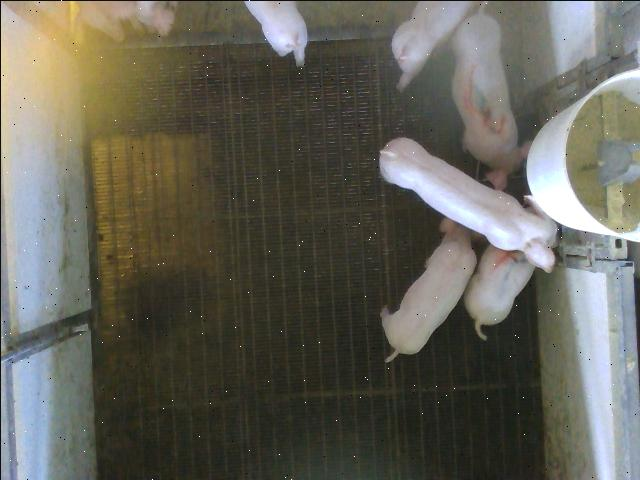pig-3: (451, 4, 529, 189)
pig-4: (462, 244, 534, 339)
